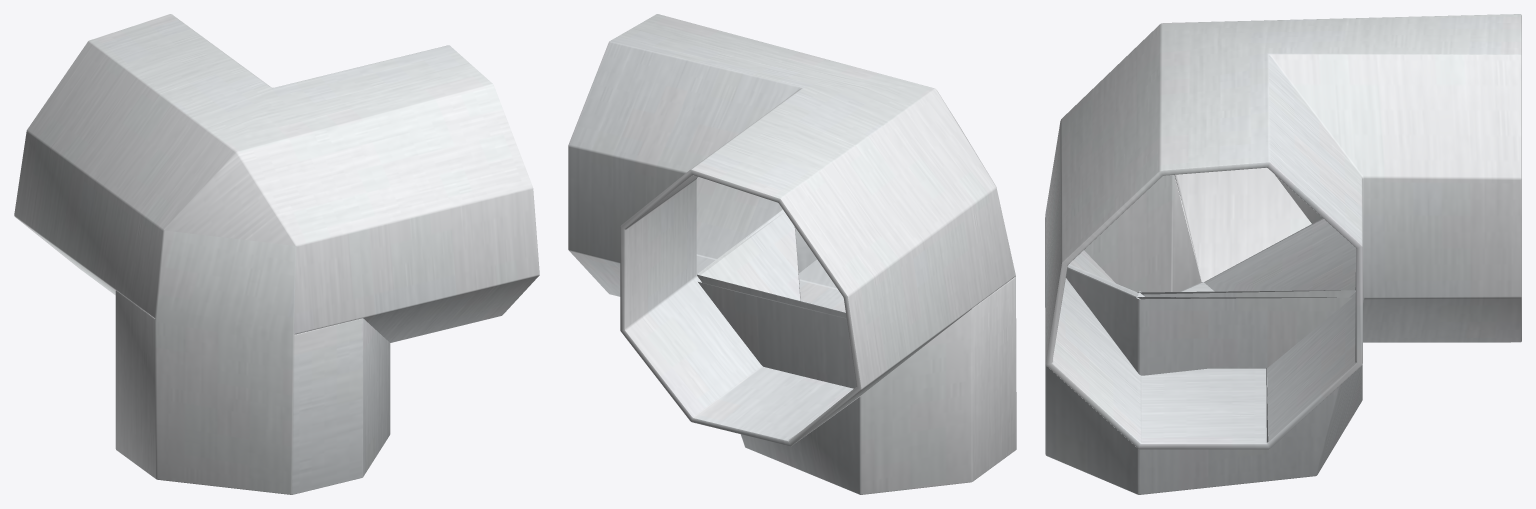
File: 3TConnector.glb
The picture shows the model from 3 angles, left to right: view 1: azimuth 30°, elevation 25°; view 2: azimuth 150°, elevation 25°; view 3: azimuth 270°, elevation 25°; orthographic projection. The views are drawn at different scales.
Visible parts, largest first — view 1: 3TConnector; view 2: 3TConnector; view 3: 3TConnector.
Boxes of the visible parts, bbox=[...] form: 3TConnector: bbox=[14, 14, 539, 494]; 3TConnector: bbox=[568, 14, 1016, 494]; 3TConnector: bbox=[1045, 14, 1521, 494].
Bounding box in the file's own units: 2.84 × 2.64 × 2.84.
Materials: 1 (1 with a texture image).
